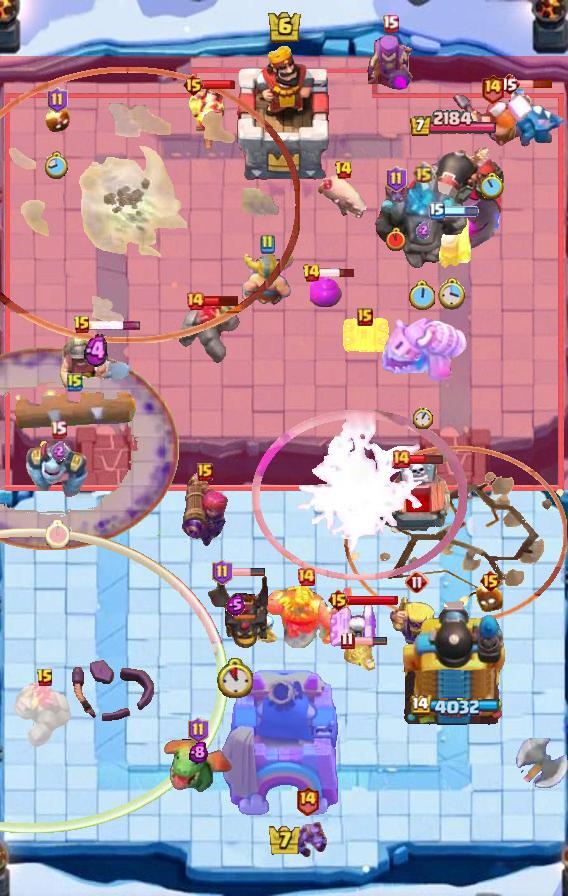axe: (508, 738, 568, 798)
bar: (347, 594, 399, 606), (89, 320, 142, 331), (203, 294, 240, 307), (319, 267, 356, 279), (409, 453, 444, 465), (443, 206, 479, 217), (202, 79, 236, 90), (352, 636, 388, 646), (230, 567, 266, 577), (518, 79, 553, 89)
bar-level: (295, 785, 320, 816), (480, 73, 505, 104), (405, 570, 429, 594), (327, 588, 350, 612), (479, 569, 502, 593), (182, 73, 205, 97), (188, 717, 209, 743), (212, 559, 233, 585), (386, 166, 407, 192), (47, 87, 68, 113), (412, 161, 435, 184), (498, 72, 520, 96), (296, 567, 316, 587), (391, 449, 411, 469), (185, 291, 205, 311), (302, 263, 321, 283), (334, 160, 353, 180), (36, 668, 54, 688), (73, 315, 91, 335), (50, 420, 67, 439), (382, 14, 399, 33), (67, 372, 83, 392), (259, 234, 275, 254), (197, 463, 213, 481), (357, 308, 373, 326), (429, 202, 445, 220), (340, 631, 355, 650)
barbarian-evolution: (386, 592, 448, 648)
bat: (381, 183, 411, 205)
cannoneer-tower: (397, 595, 509, 731), (402, 136, 504, 256)
clock: (217, 658, 253, 698), (438, 278, 466, 311), (409, 280, 437, 312), (45, 151, 69, 180), (46, 520, 70, 548), (481, 173, 504, 199), (386, 227, 406, 251), (413, 407, 433, 429)
electro-dragon: (484, 85, 568, 149)
elite-barbarian: (239, 254, 295, 308)
elixir: (84, 334, 108, 368), (189, 741, 208, 763), (226, 594, 245, 616), (51, 441, 66, 461), (416, 221, 430, 239)
elixir-golem-small: (310, 277, 342, 307)
fire-spirit: (475, 585, 505, 613), (43, 104, 71, 134)
firecracker: (431, 212, 473, 270)
firecracker-evolution: (181, 473, 229, 549)
golemite: (175, 299, 243, 369), (13, 683, 77, 751)
hog: (315, 174, 371, 224)
king-tower: (219, 670, 349, 826), (230, 43, 338, 181)
lava-pup: (342, 640, 378, 672)
lumberjack: (452, 92, 532, 154)
mega-minion: (24, 433, 92, 499)
miner: (60, 330, 132, 396)
minion: (285, 820, 329, 858)
mother-witch: (363, 32, 417, 96)
skeleton: (255, 614, 285, 646), (342, 617, 368, 651)
tesla: (329, 600, 381, 650), (340, 315, 390, 355)
the-log: (11, 386, 139, 432)
tower-bar: (409, 110, 498, 138), (408, 695, 499, 718)
wizard: (186, 83, 228, 153)
